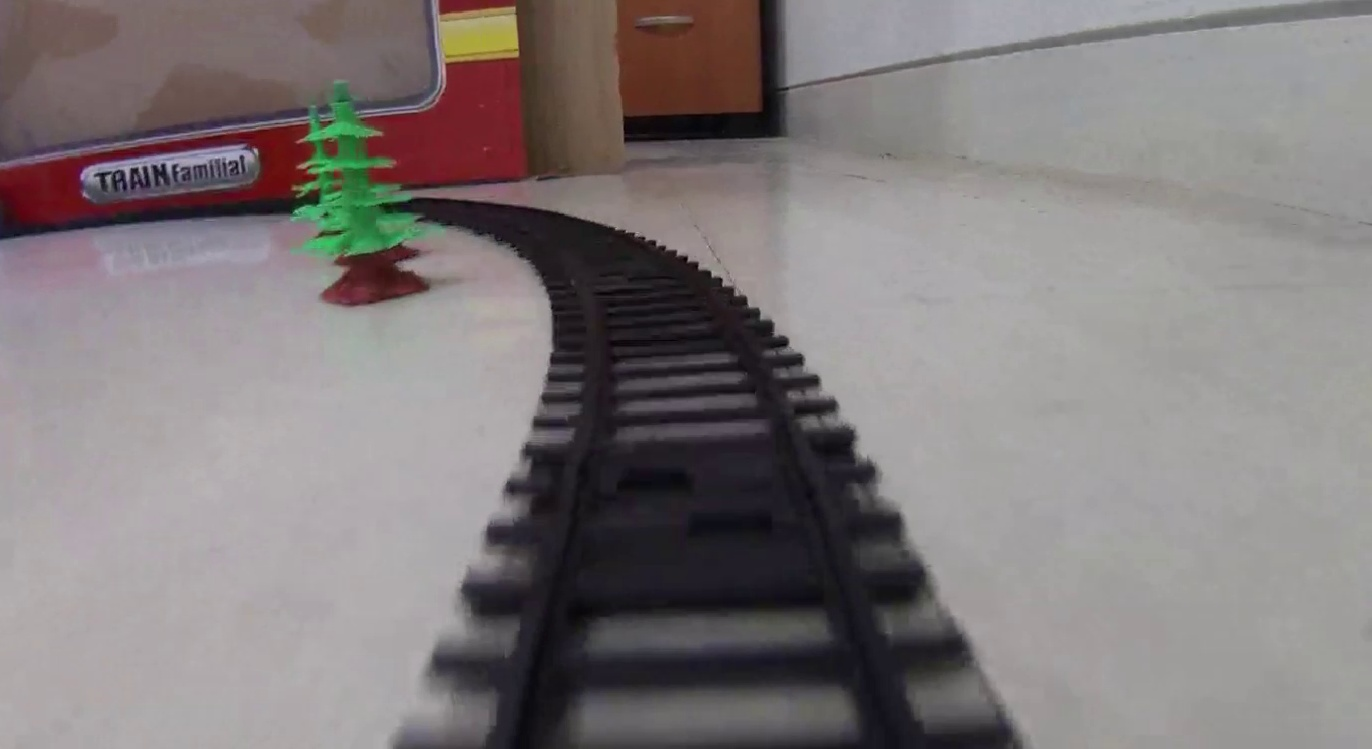tree: (319, 83, 426, 303)
